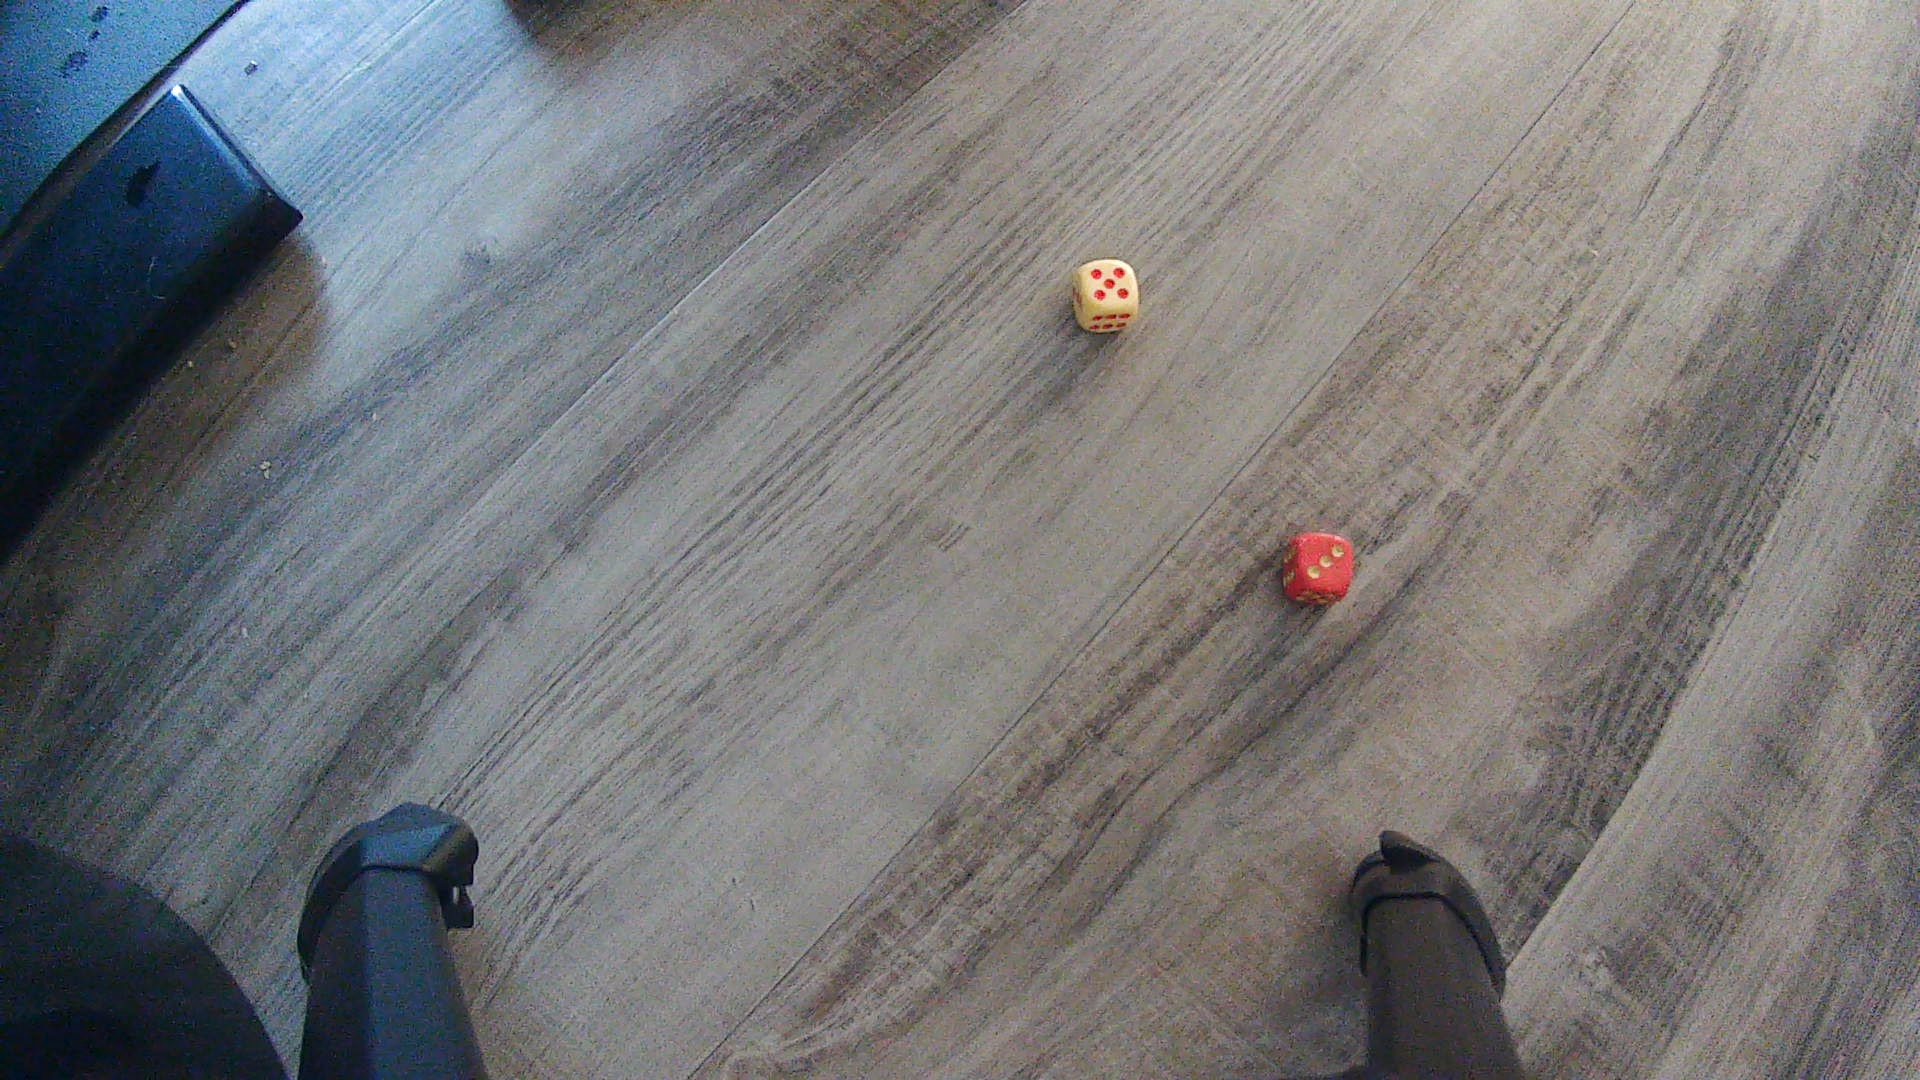die: (1280, 530, 1357, 608), (1069, 257, 1141, 334)
